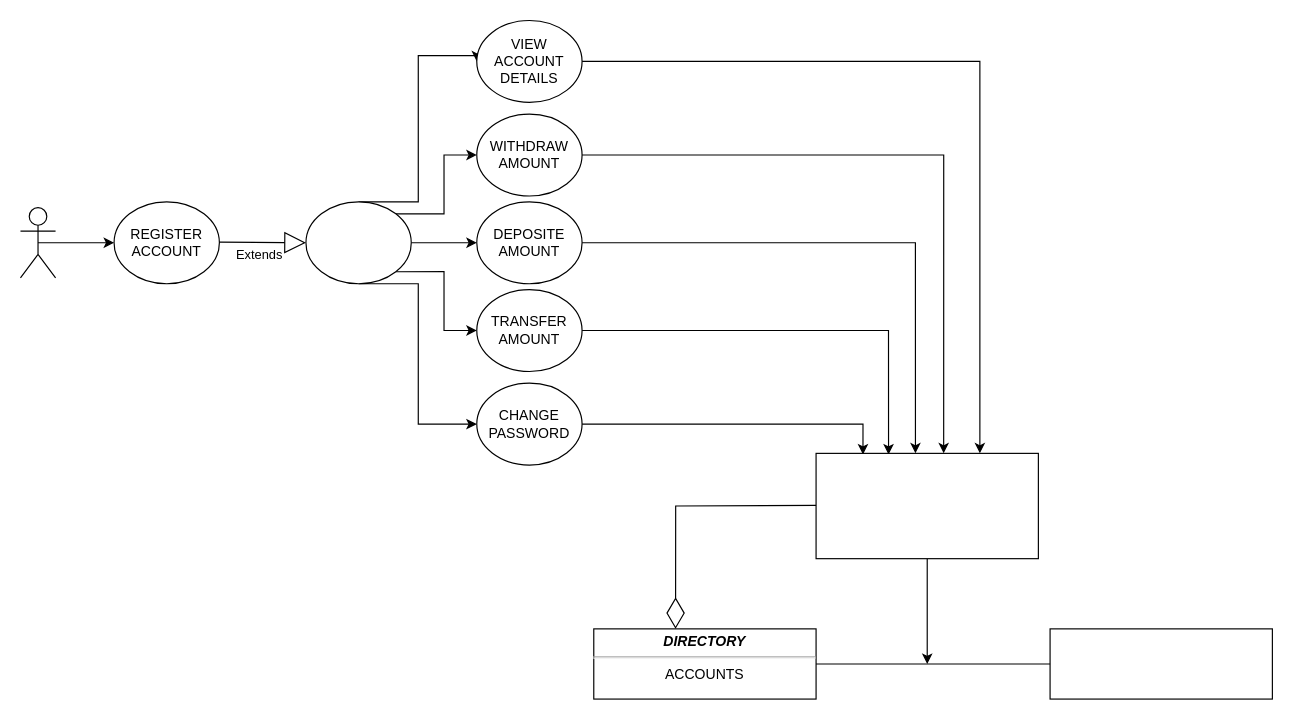
Some shapes in this 1293 by 720 pixel diagram are drawn without their labels. Here are the shapes that lost their labels. From the top down, the box of each, then its label:
(19, 207, 56, 278): Actor
(305, 201, 411, 284): LOGIN ACCOUNT
(815, 452, 1038, 559): File System Element
(1049, 628, 1272, 699): FILES USER ACCOUNTS
